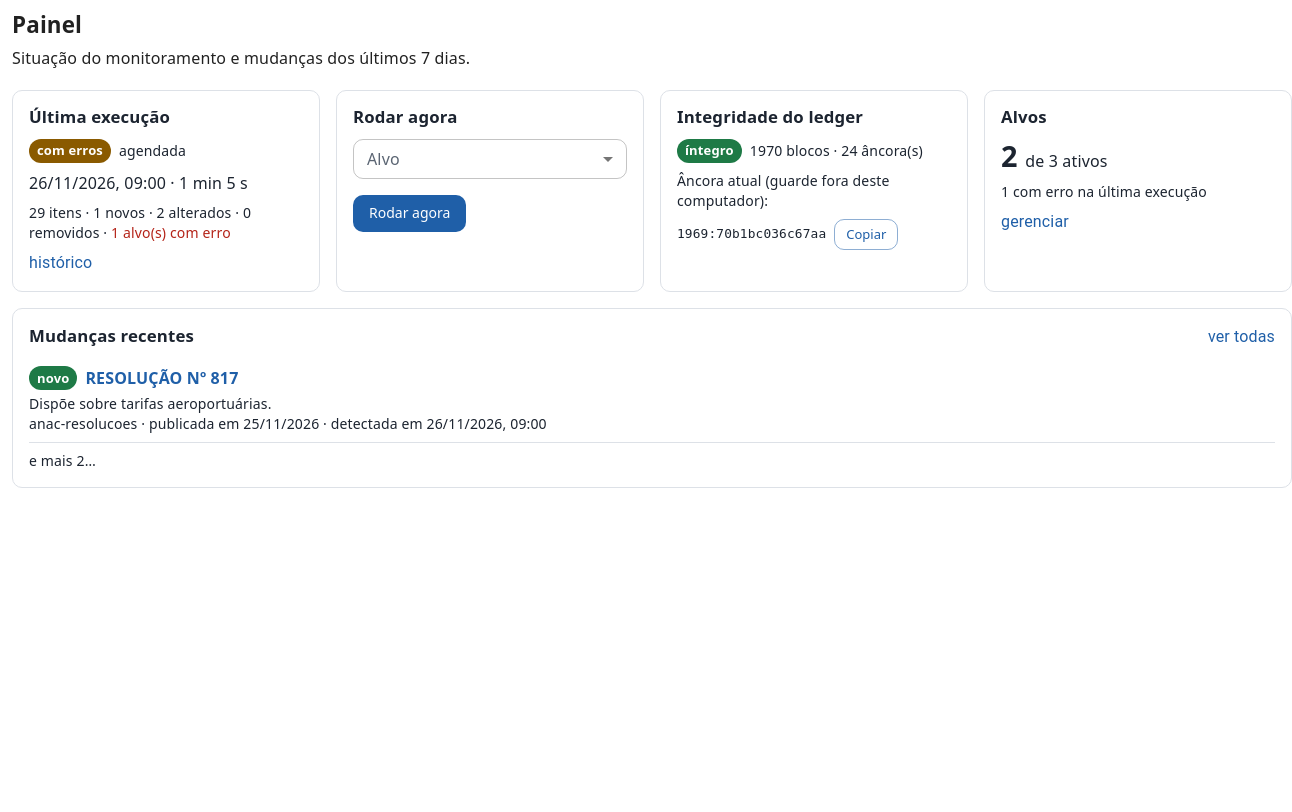
Test: PainelPage › "Rodar agora" dispara a execução do alvo escolhido e avisa
This screenshot has width=1292, height=812.
Click the dropdown named "Alvo".
click(490, 159)  # box [353, 139, 627, 179]
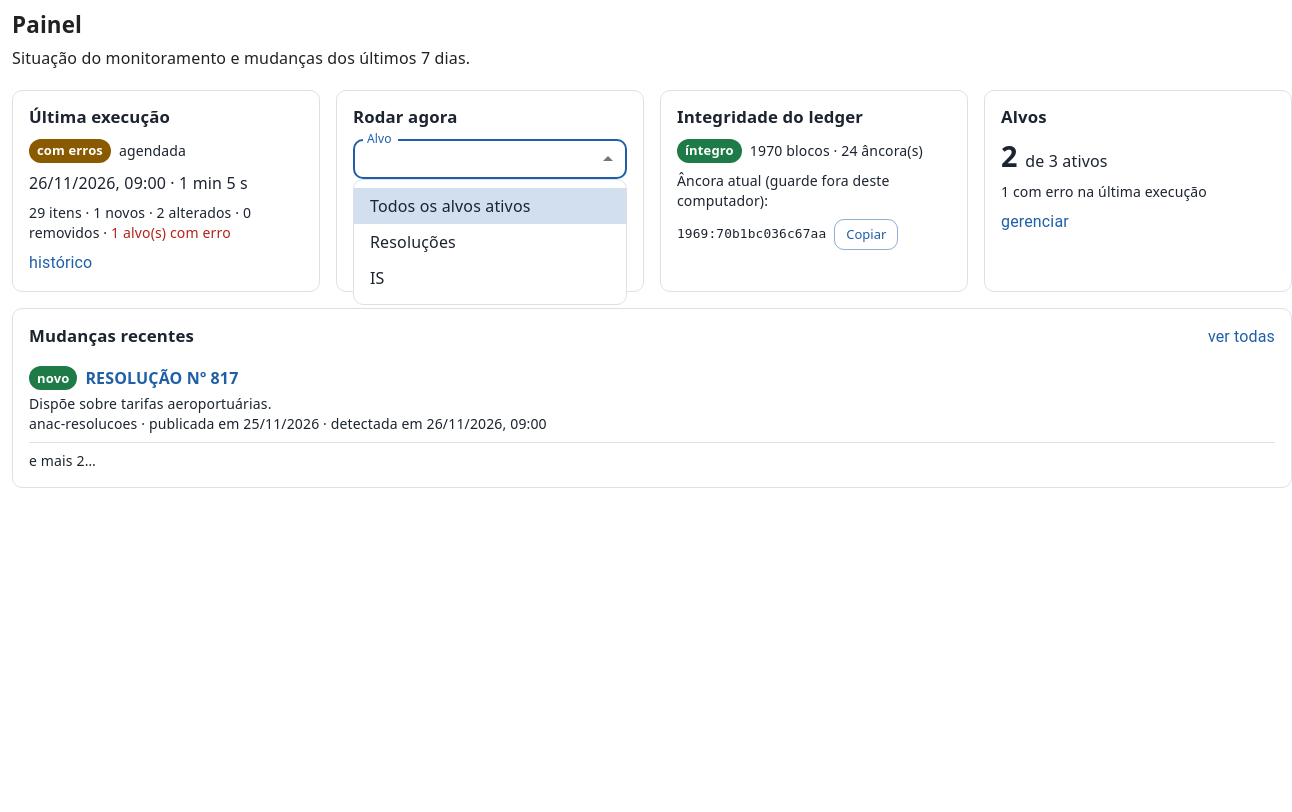
expect the options read "Todos os alvos ativos", "Resoluções", "IS", in this order: met
Click the option "Resoluções".
click(413, 242)  # box [370, 231, 456, 253]
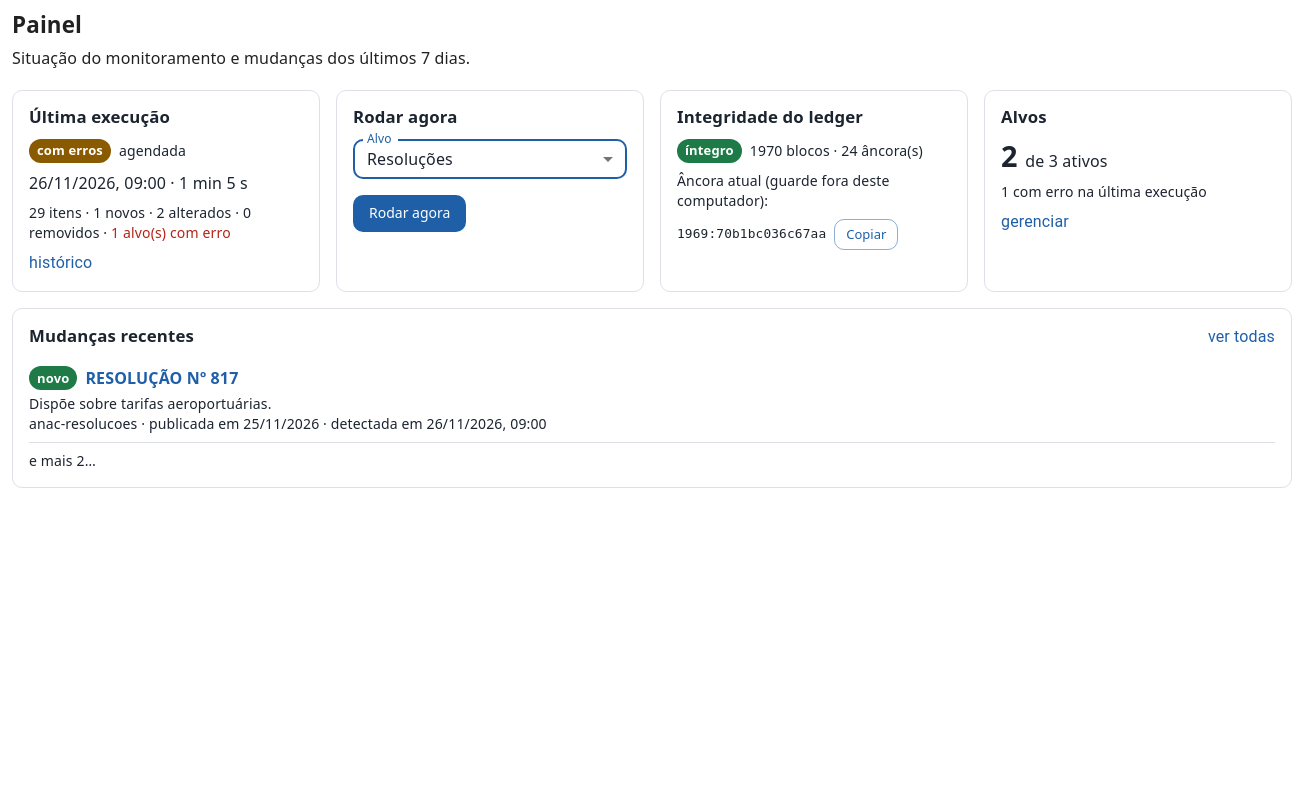
Click the button "Rodar agora".
click(410, 213)  # box [353, 195, 466, 232]
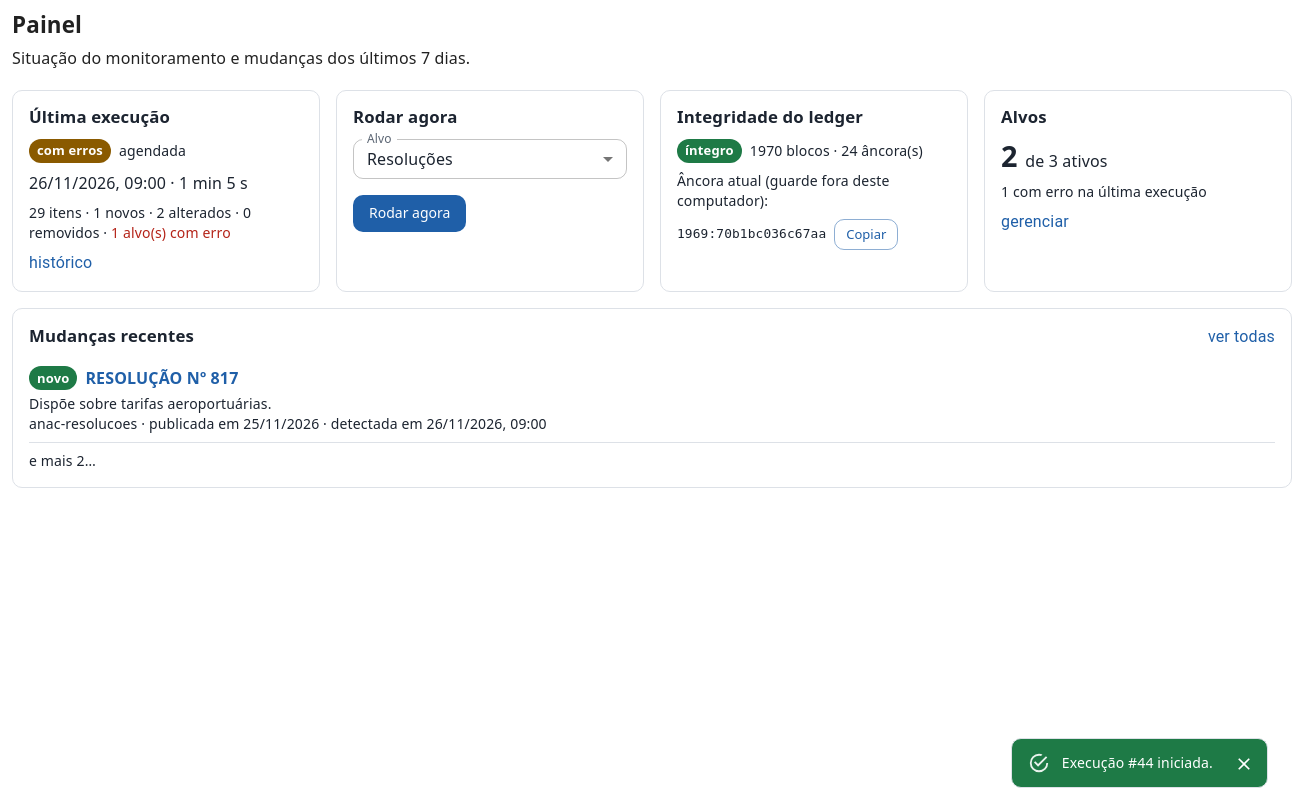
expect the text "Execução #44 iniciada." is shown: met, box [1062, 753, 1213, 772]
